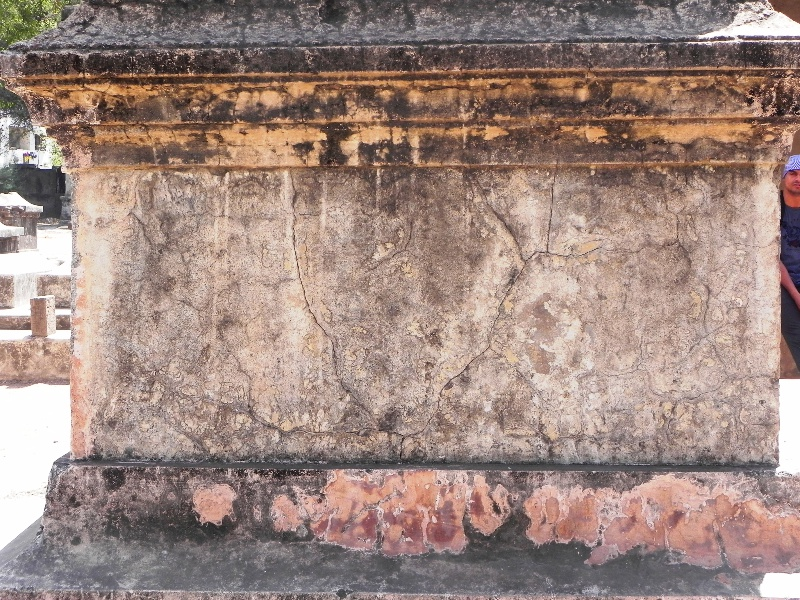Crack: (289, 205, 343, 376), (440, 347, 491, 388)
